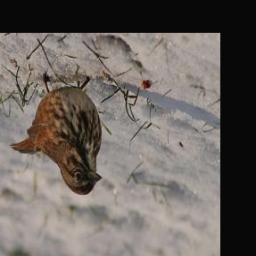Sparrow: (9, 71, 102, 198)
